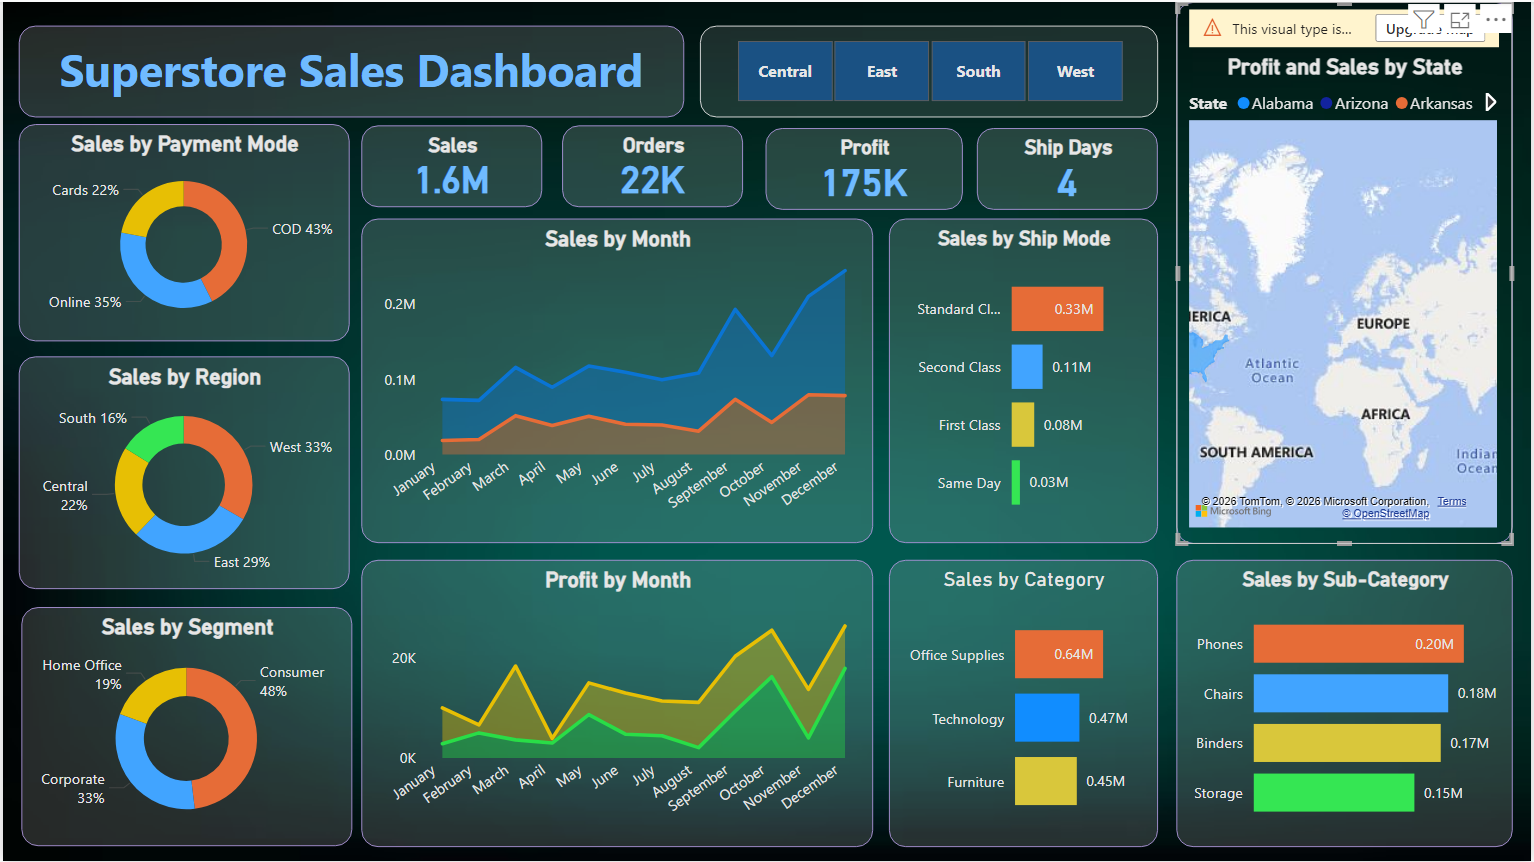

This screenshot's page, from the dashboard's own definition file:
{"tool":"powerbi","page":{"name":"Page 1","canvas":[1280,720],"ordinal":0},"visuals":[{"type":"clusteredBarChart","title":"Sales by Category","fields":{"Category":["SuperStore_Sales_Dataset.Category"],"Y":["Sum(SuperStore_Sales_Dataset.Sales)"]},"box":[742.8,467.4,225.4,240.4],"z":0},{"type":"clusteredBarChart","title":"Sales by Sub-Category","fields":{"Y":["Sum(SuperStore_Sales_Dataset.Sales)"],"Category":["SuperStore_Sales_Dataset.Sub-Category"]},"box":[983.2,467.4,282.1,240.4],"z":1000},{"type":"clusteredBarChart","title":"Sales by Ship Mode","fields":{"Y":["Sum(SuperStore_Sales_Dataset.Sales)"],"Category":["SuperStore_Sales_Dataset.Ship Mode"]},"box":[742.8,182,225.4,272.1],"z":2000},{"type":"stackedAreaChart","title":"Sales by Month","fields":{"Y":["Sum(SuperStore_Sales_Dataset.Sales)"],"Series":["SuperStore_Sales_Dataset.Order Date.Variation.Date Hierarchy.Year"],"Category":["SuperStore_Sales_Dataset.Order Date.Variation.Date Hierarchy.Month","SuperStore_Sales_Dataset.Order Date.Variation.Date Hierarchy.Day"]},"box":[300.5,182,429,272.1],"z":3000},{"type":"stackedAreaChart","title":"Profit by Month","fields":{"Series":["SuperStore_Sales_Dataset.Order Date.Variation.Date Hierarchy.Year"],"Category":["SuperStore_Sales_Dataset.Order Date.Variation.Date Hierarchy.Month","SuperStore_Sales_Dataset.Order Date.Variation.Date Hierarchy.Day"],"Y":["Sum(SuperStore_Sales_Dataset.Profit)"]},"box":[300.5,467.4,429,240.4],"z":4000},{"type":"azureMap","title":"Profit and Sales by State","fields":{"Category":["SuperStore_Sales_Dataset.State"],"Size":["Sum(SuperStore_Sales_Dataset.Sales)"]},"box":[983.2,20,282.1,434],"z":5000},{"type":"donutChart","title":"Sales by Segment","fields":{"Category":["SuperStore_Sales_Dataset.Segment"],"Y":["Sum(SuperStore_Sales_Dataset.Sales)"]},"box":[15,507.5,277.1,200.3],"z":6000},{"type":"donutChart","title":"Sales by Payment Mode","fields":{"Y":["Sum(SuperStore_Sales_Dataset.Sales)"],"Category":["SuperStore_Sales_Dataset.Payment Mode"]},"box":[13.4,101.8,277.1,182],"z":7000},{"type":"slicer","fields":{"Values":["SuperStore_Sales_Dataset.Region"]},"box":[584.3,20,383.9,76.8],"z":8000},{"type":"card","title":"Sales","fields":{"Values":["Sum(SuperStore_Sales_Dataset.Sales)"]},"box":[300.5,103.5,151.9,68.4],"z":9000},{"type":"card","title":"Orders","fields":{"Values":["Sum(SuperStore_Sales_Dataset.Quantity)"]},"box":[469.1,103.5,151.9,68.4],"z":10000},{"type":"card","title":"Profit","fields":{"Values":["Sum(SuperStore_Sales_Dataset.Profit)"]},"box":[639.3,105.2,165.3,68.4],"z":11000},{"type":"card","title":"Ship Days","fields":{"Values":["Avg(SuperStore_Sales_Dataset.AvgDelivery)"]},"box":[816.3,105.2,151.9,68.4],"z":12000},{"type":"textbox","box":[13.4,20,557.6,76.8],"z":13000},{"type":"donutChart","title":"Sales by Region","fields":{"Y":["Sum(SuperStore_Sales_Dataset.Sales)"],"Category":["SuperStore_Sales_Dataset.Region"]},"box":[13.4,297.1,277.1,195.3],"z":14000}]}

Visuals, with their boxes in screenshot pixels (x1, y1, x2, y2), scaled from the page's 1280x720 canvas onto the 1534x862 screenshot:
"Sales by Category" clusteredBarChart: detection(890, 560, 1160, 847)
"Sales by Sub-Category" clusteredBarChart: detection(1178, 560, 1516, 847)
"Sales by Ship Mode" clusteredBarChart: detection(890, 218, 1160, 544)
"Sales by Month" stackedAreaChart: detection(360, 218, 874, 544)
"Profit by Month" stackedAreaChart: detection(360, 560, 874, 847)
"Profit and Sales by State" azureMap: detection(1178, 24, 1516, 544)
"Sales by Segment" donutChart: detection(18, 608, 350, 847)
"Sales by Payment Mode" donutChart: detection(16, 122, 348, 340)
slicer - SuperStore_Sales_Dataset.Region: detection(700, 24, 1160, 116)
"Sales" card: detection(360, 124, 542, 206)
"Orders" card: detection(562, 124, 744, 206)
"Profit" card: detection(766, 126, 964, 208)
"Ship Days" card: detection(978, 126, 1160, 208)
textbox: detection(16, 24, 684, 116)
"Sales by Region" donutChart: detection(16, 356, 348, 590)
